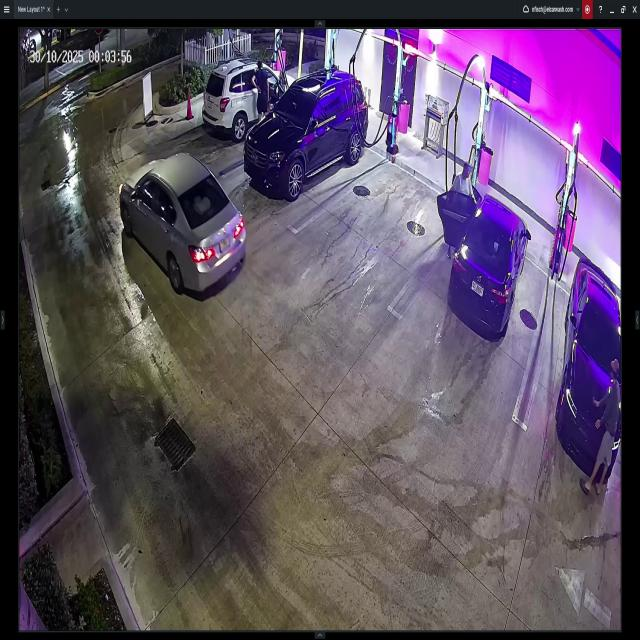Car: (117, 153, 248, 294), (241, 64, 366, 200), (442, 171, 530, 340), (555, 256, 621, 478), (204, 57, 302, 136)
